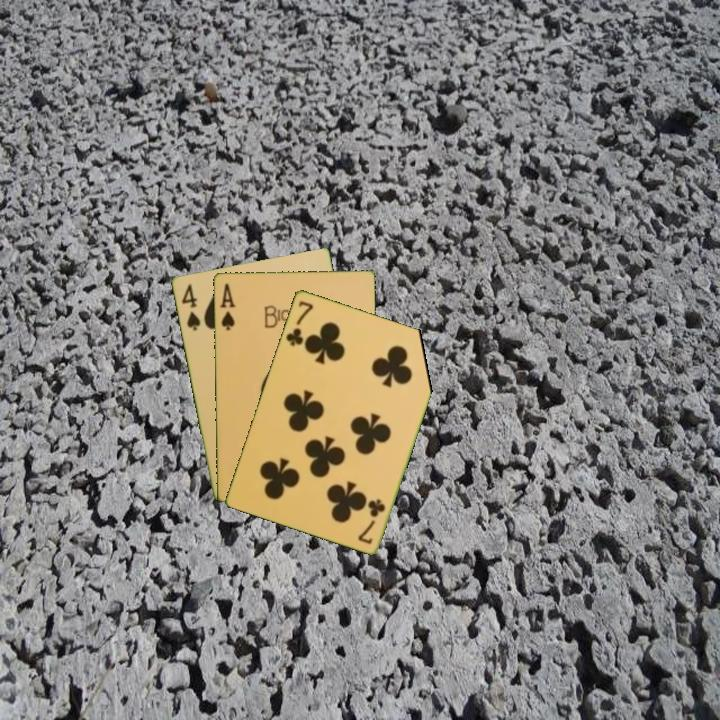4s: (178, 280, 203, 333)
7c: (282, 297, 316, 349), (354, 495, 388, 547)
As: (216, 280, 238, 333)
